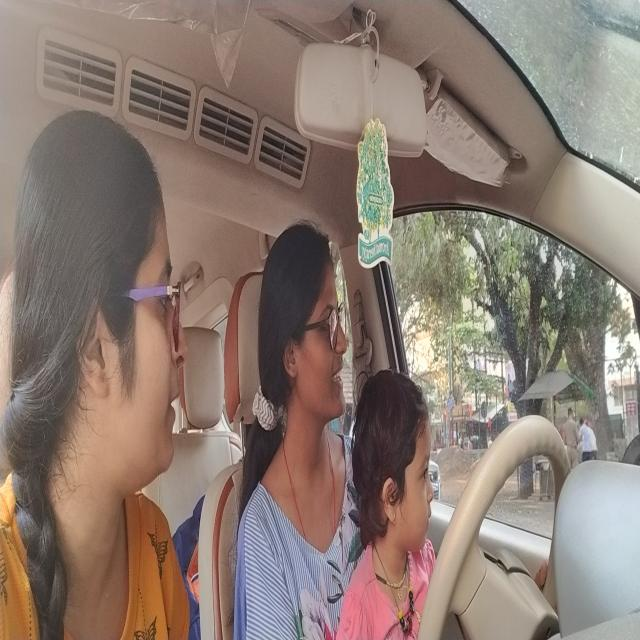child: (358, 373, 434, 553)
person: (74, 112, 188, 495), (272, 231, 350, 429)
